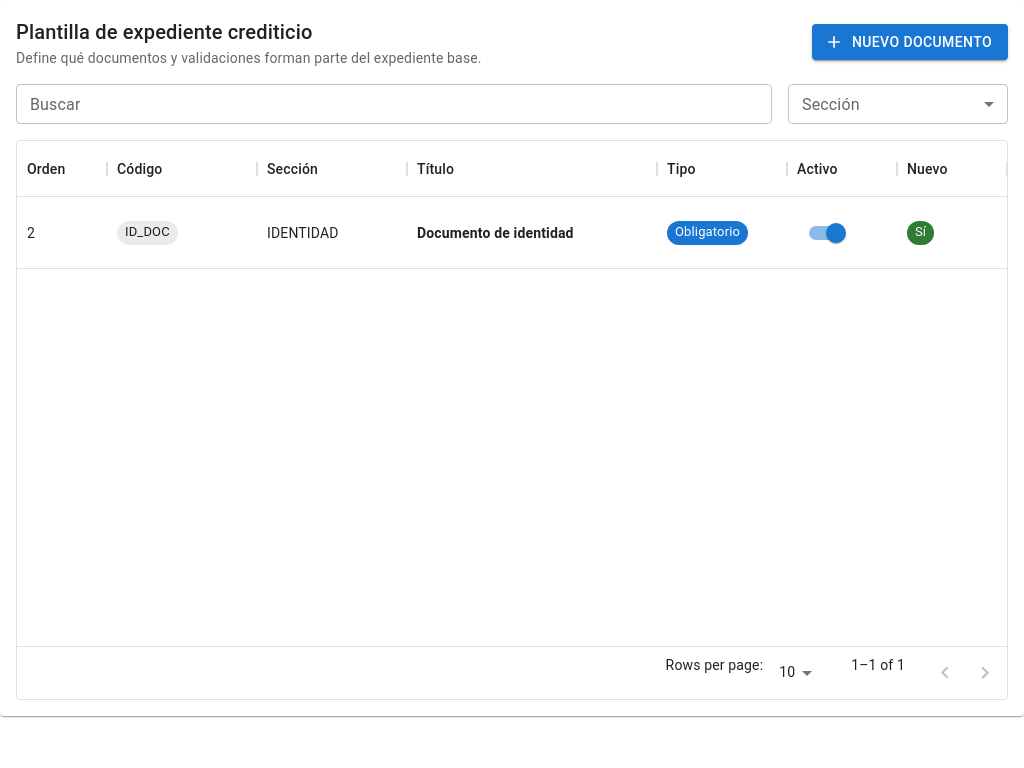
Test case: Plantilla de expediente: desactivar un documento lo vuelve opcional › al apagar Activo se guarda como opcional y la columna Tipo cambia
Check: the text "Documento de identidad" shows "Obligatorio", box [675,224,740,239]
Click the checkbox at coordinates (836, 232), box [826,222,846,242]
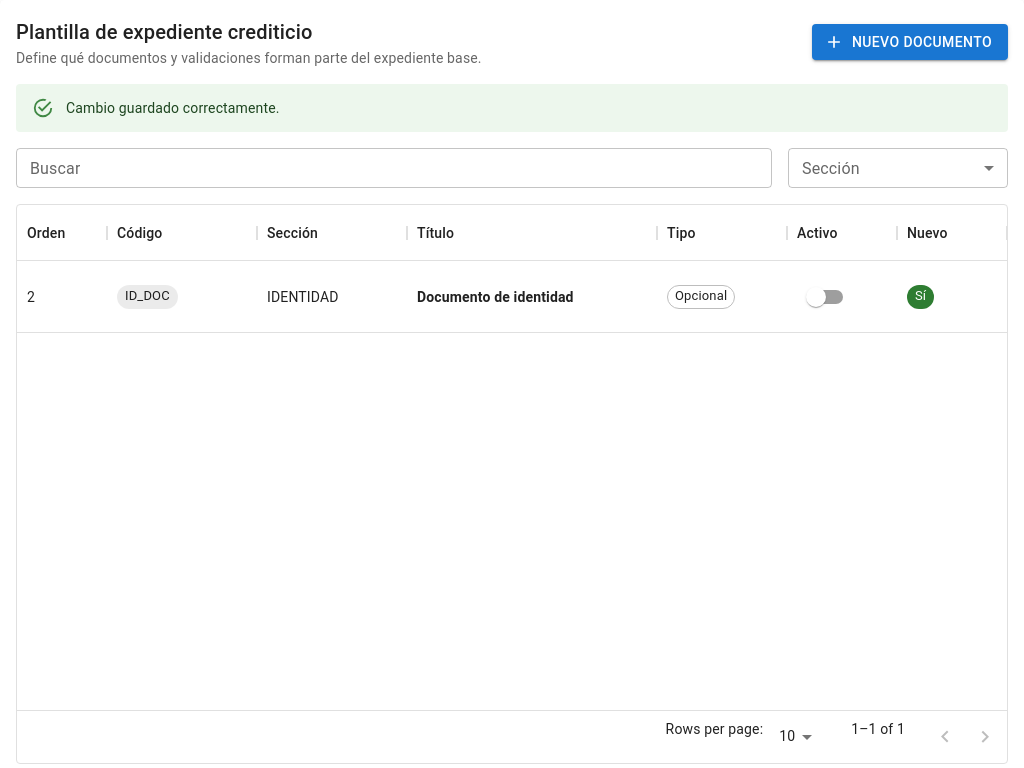
Check: the text "Documento de identidad" shows "Opcional", box [675,288,727,303]
